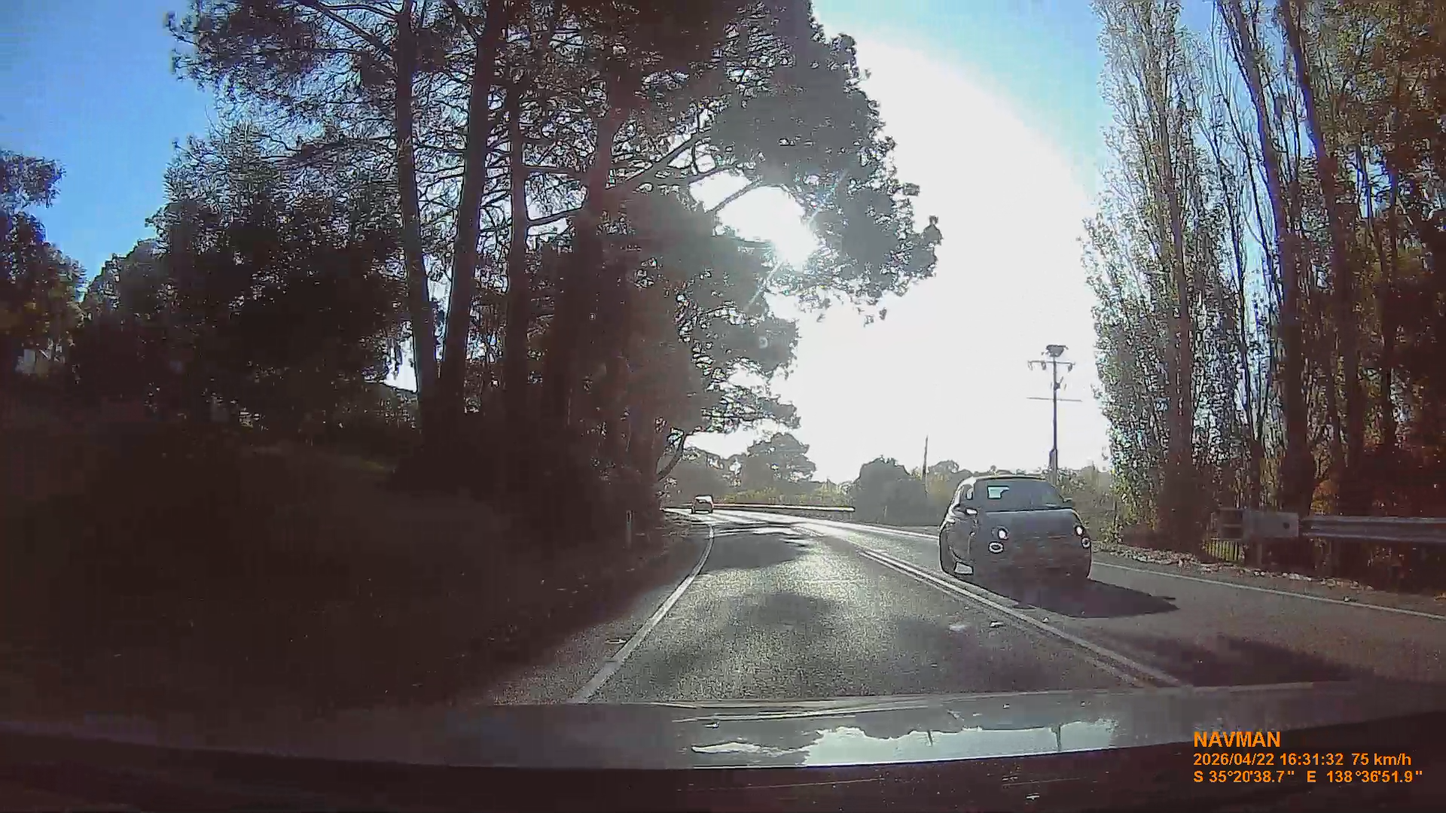road barriers: (1224, 507, 1446, 587)
